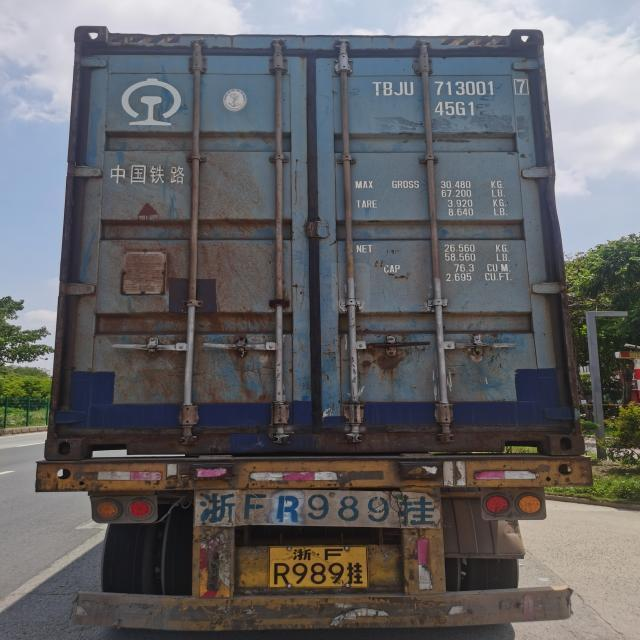ISO: (429, 95, 483, 119)
container_number: (374, 79, 528, 99)
